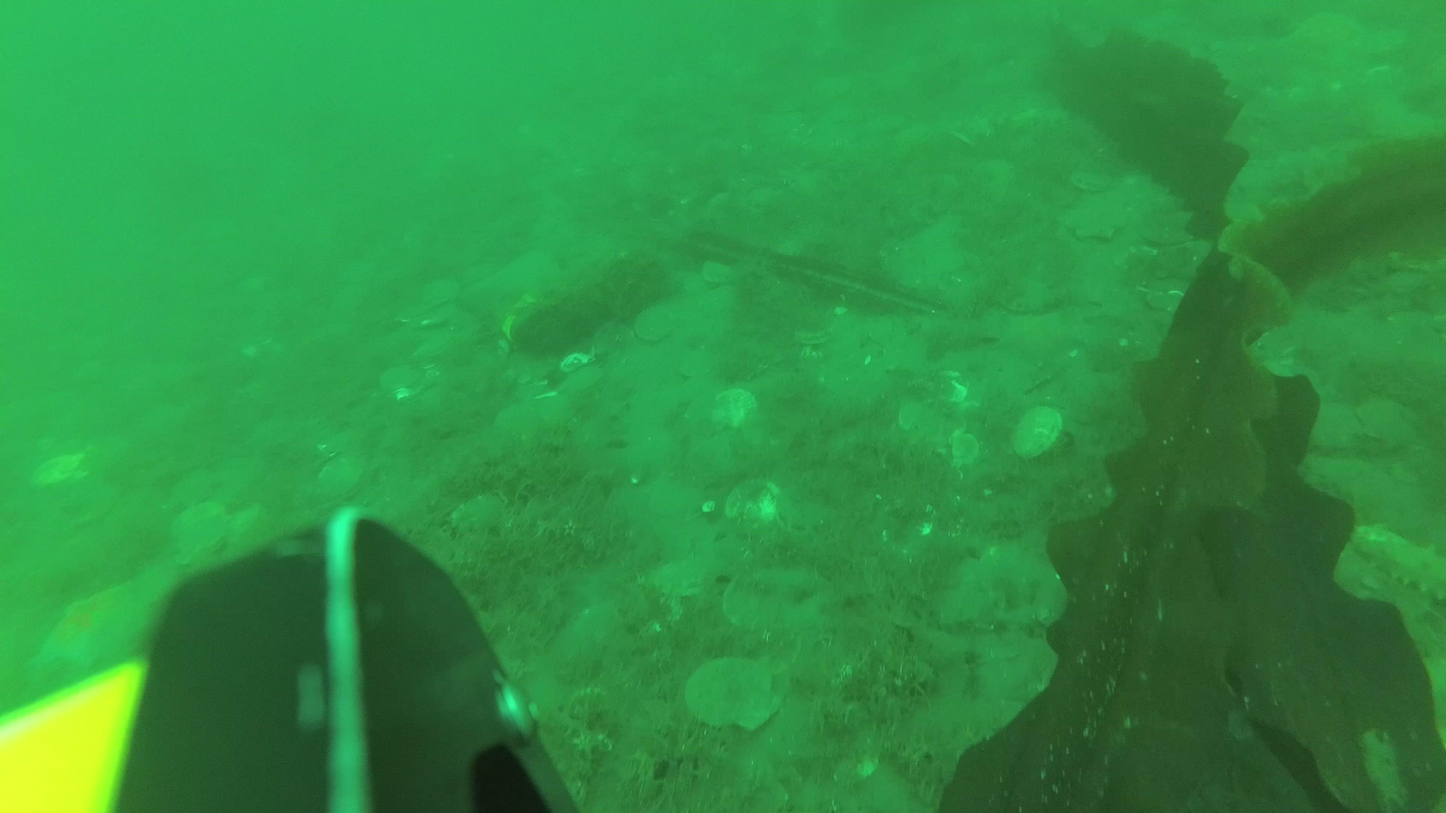echinus: (1352, 520, 1446, 611)
holothurian: (36, 579, 145, 671)
scallop: (685, 656, 790, 731), (725, 565, 829, 633), (719, 479, 789, 534), (1359, 396, 1418, 452), (168, 504, 229, 558), (1014, 403, 1063, 462), (1064, 204, 1132, 246), (318, 457, 372, 502), (710, 393, 760, 435), (34, 452, 83, 493), (1002, 279, 1053, 316), (636, 307, 680, 348), (377, 363, 422, 397)
